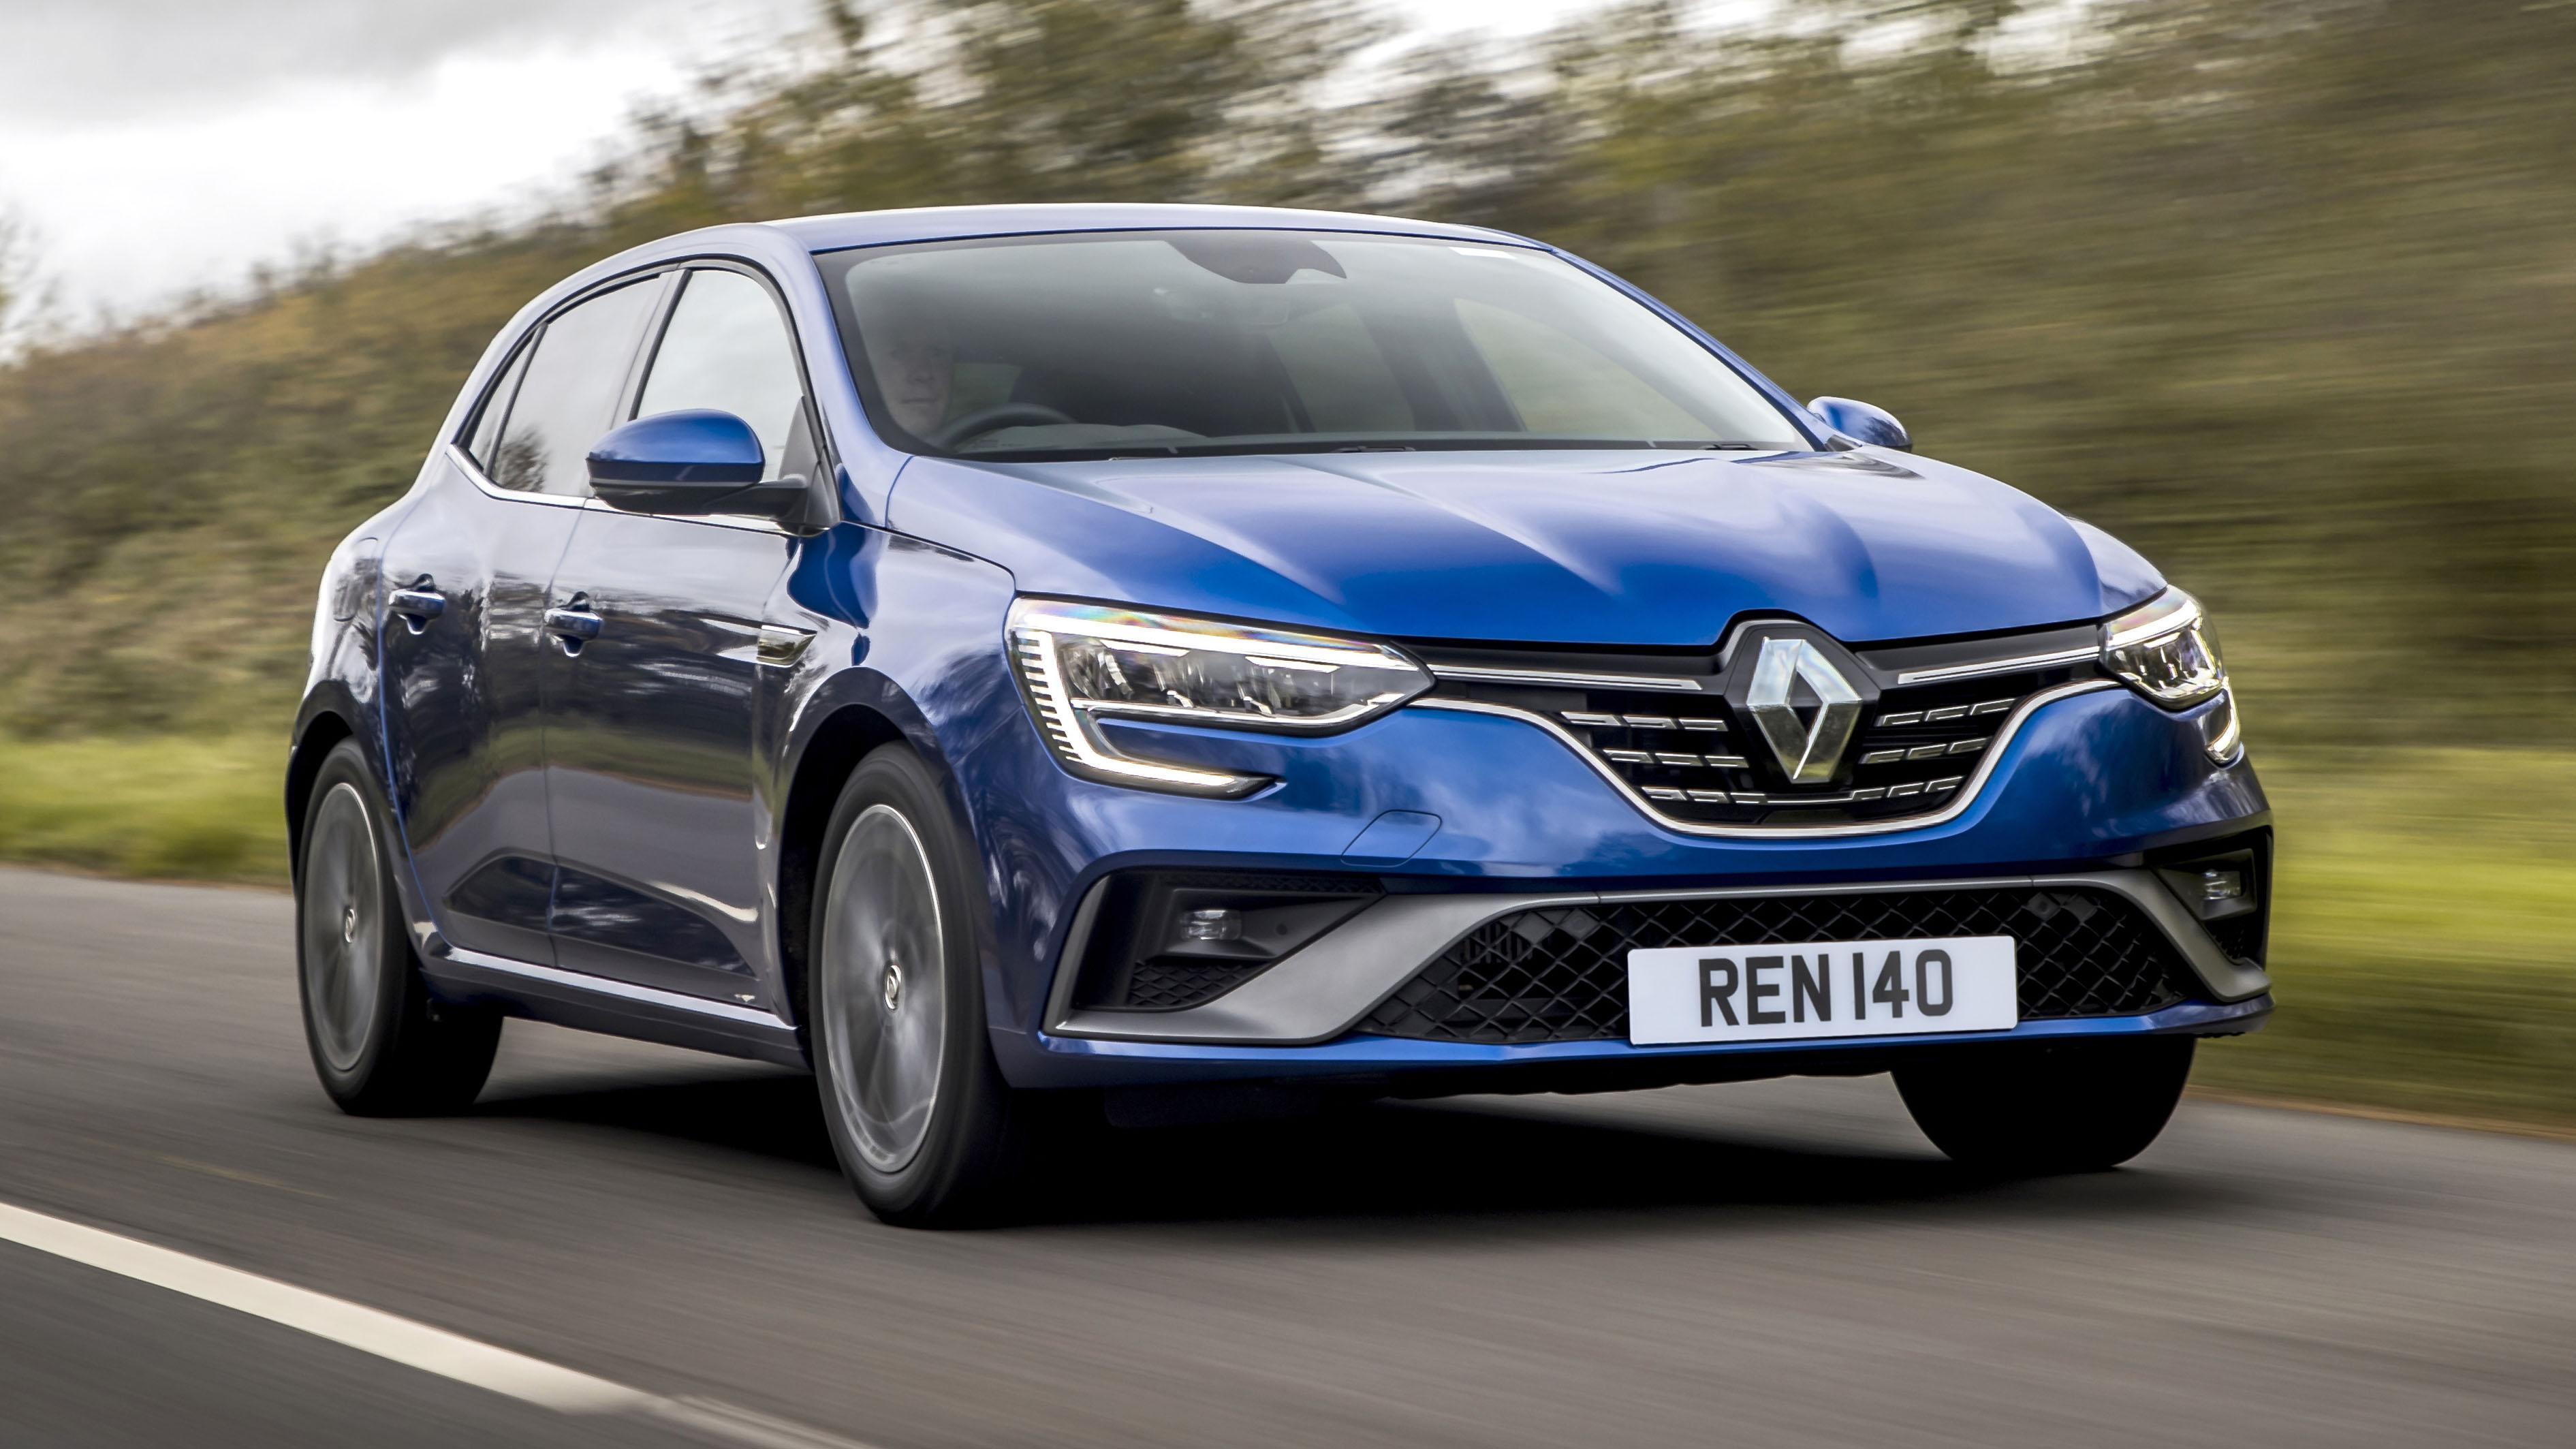Renault: (1707, 587, 1891, 810)
